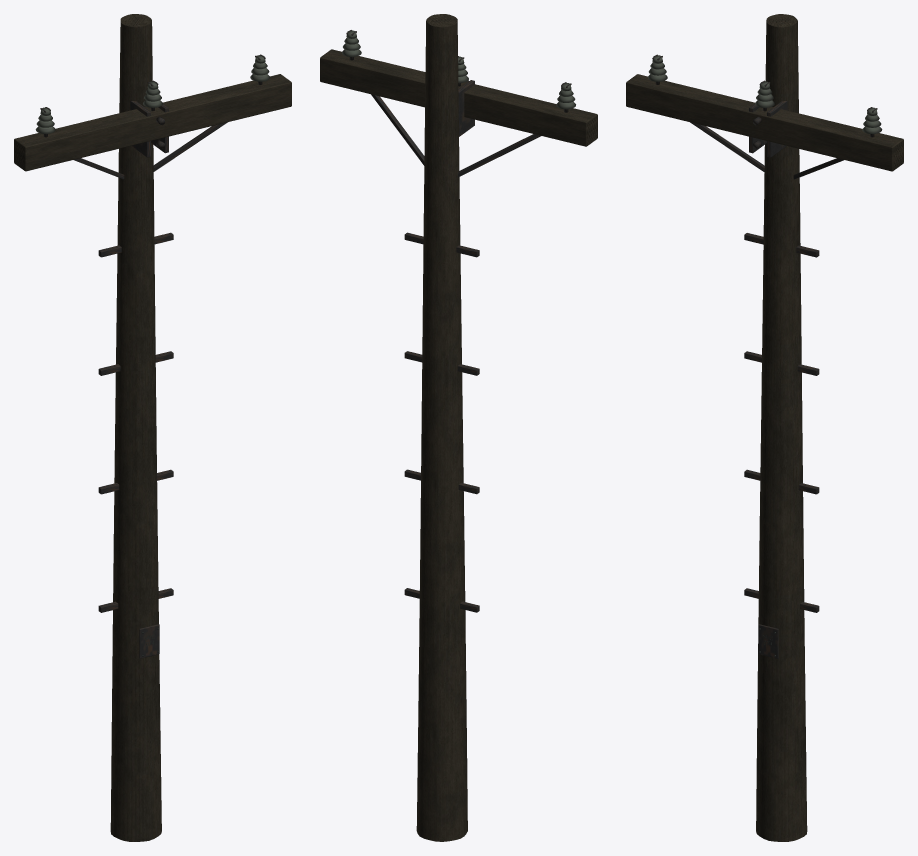
File: utility-pole.glb
3 renders of one model, left to right at view 1: azimuth 30°, elevation 25°; view 2: azimuth 150°, elevation 25°; view 3: azimuth 330°, elevation 25°, orthographic.
Visible parts, largest first — view 1: utility-weathered-timber, utility-galvanised-iron, utility-old-porcelain; view 2: utility-weathered-timber, utility-galvanised-iron, utility-old-porcelain; view 3: utility-weathered-timber, utility-galvanised-iron, utility-old-porcelain.
Part boxes in pixels (x1,y1,x2,y2): utility-weathered-timber: [14, 14, 291, 841]; utility-galvanised-iron: [40, 54, 265, 658]; utility-old-porcelain: [35, 55, 270, 133]; utility-weathered-timber: [320, 14, 597, 841]; utility-galvanised-iron: [346, 30, 571, 616]; utility-old-porcelain: [342, 30, 575, 109]; utility-weathered-timber: [626, 14, 903, 841]; utility-galvanised-iron: [652, 54, 877, 658]; utility-old-porcelain: [647, 55, 882, 133].
Size of the model in its own units: 2.24 by 6.5 by 0.567.
4 materials, 3 textured.
